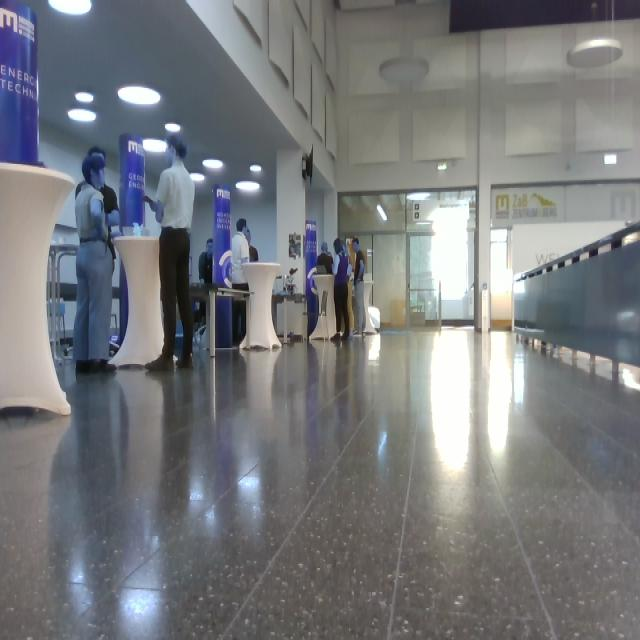door: (373, 233, 408, 329), (490, 228, 514, 330)
light bulb: (566, 1, 623, 69), (567, 38, 623, 69), (379, 56, 429, 85), (118, 85, 161, 106), (48, 1, 92, 17), (68, 108, 97, 122), (143, 138, 168, 153), (236, 181, 260, 192), (75, 92, 94, 104), (203, 158, 223, 169), (377, 204, 388, 221), (165, 122, 181, 133), (604, 153, 617, 165), (190, 173, 205, 182), (250, 164, 262, 172)
person: (142, 133, 196, 372), (74, 153, 118, 374), (231, 219, 251, 343), (332, 238, 351, 340), (352, 237, 367, 336)
pillar: (1, 162, 76, 417)
staircase: (511, 220, 640, 377)
tiled floor: (1, 325, 639, 638)
